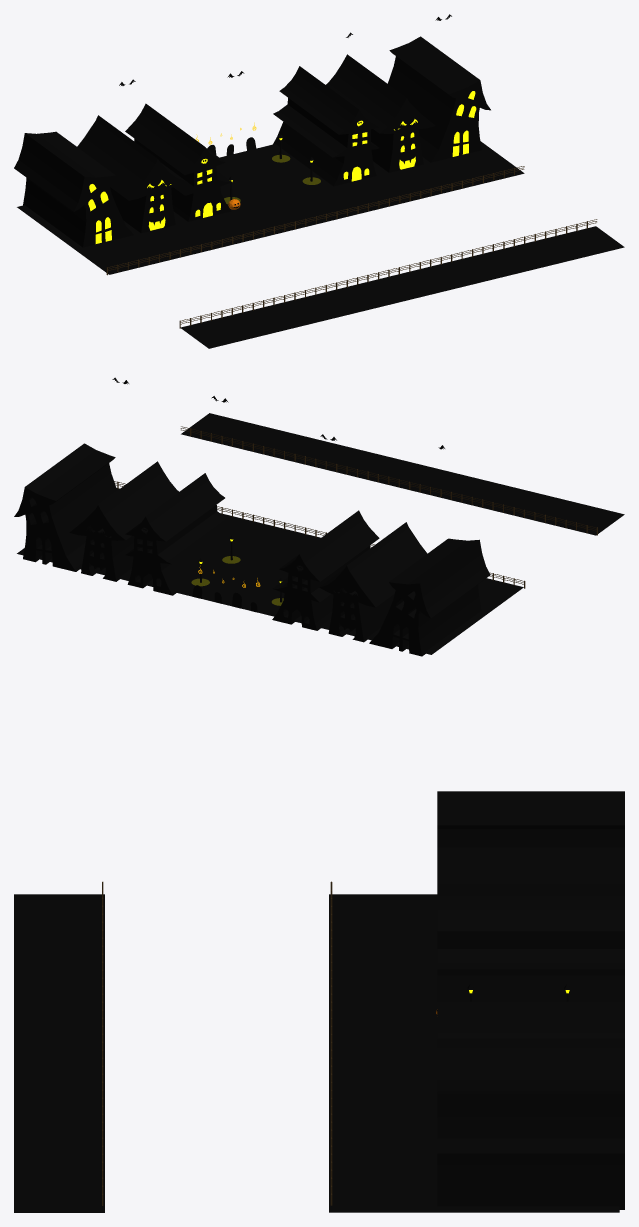
File: haloween.gltf
3 views of the same model, one above another, from view 1: azimuth 30°, elevation 25°; view 2: azimuth 150°, elevation 25°; view 3: azimuth 270°, elevation 25° (orthographic). The views are drawn at different scales.
Visible parts, largest first — view 1: Plane.002, Cube.032, Plane.001, Cube, Cube.002, Cube.001; view 2: Plane.002, Plane.001, Cube, Cube.032, Cube.087; view 3: Plane.001, Plane.002, Cube.032, Cube.
Part boxes in pixels (x1=…): Plane.002: x1=273, y1=36, x2=490, y2=186; Cube.032: x1=17, y1=141, x2=524, y2=274; Plane.001: x1=14, y1=103, x2=231, y2=247; Cube: x1=180, y1=226, x2=624, y2=348; Cube.002: x1=343, y1=91, x2=476, y2=181; Cube.001: x1=88, y1=158, x2=220, y2=243; Plane.002: x1=14, y1=443, x2=231, y2=595; Plane.001: x1=272, y1=510, x2=490, y2=656; Cube: x1=181, y1=413, x2=624, y2=535; Cube.032: x1=17, y1=488, x2=523, y2=654; Cube.087: x1=192, y1=585, x2=257, y2=612; Plane.001: x1=437, y1=791, x2=624, y2=1001; Plane.002: x1=437, y1=1001, x2=624, y2=1209; Cube.032: x1=329, y1=894, x2=619, y2=1212; Cube: x1=14, y1=894, x2=104, y2=1212.
Bounding box in the file's own units: 52.2 × 21.43 × 42.09.
